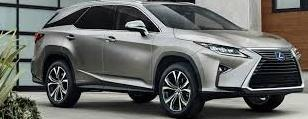SUV: (33, 3, 305, 118)
